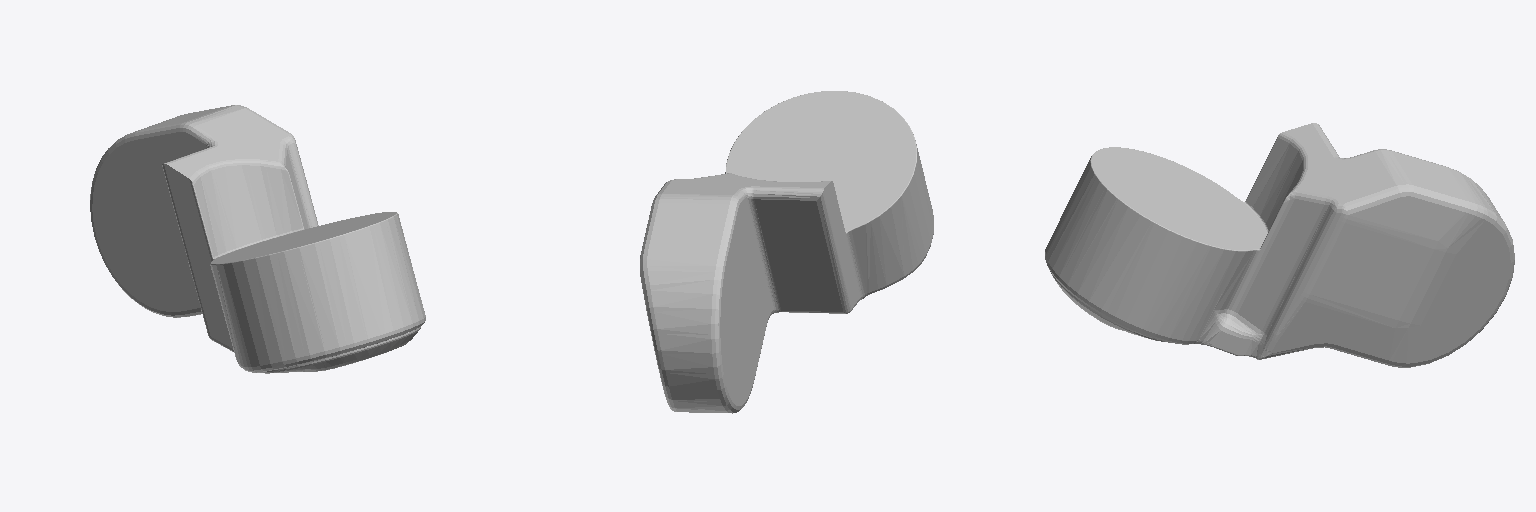
The model's file is arm_1.obj.
3 renders of one model, left to right at view 1: azimuth 30°, elevation 25°; view 2: azimuth 150°, elevation 25°; view 3: azimuth 270°, elevation 25°, orthographic.
Parts seen in each view (by area): view 1: arm_1; view 2: arm_1; view 3: arm_1.
Part boxes in pixels (left/top/right/bottom): arm_1: left=90, top=105, right=425, bottom=373; arm_1: left=640, top=91, right=933, bottom=413; arm_1: left=1045, top=123, right=1514, bottom=367.
Size of the model in its own units: 0.1069 by 0.1166 by 0.251.